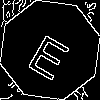E: (25, 25, 77, 82)
